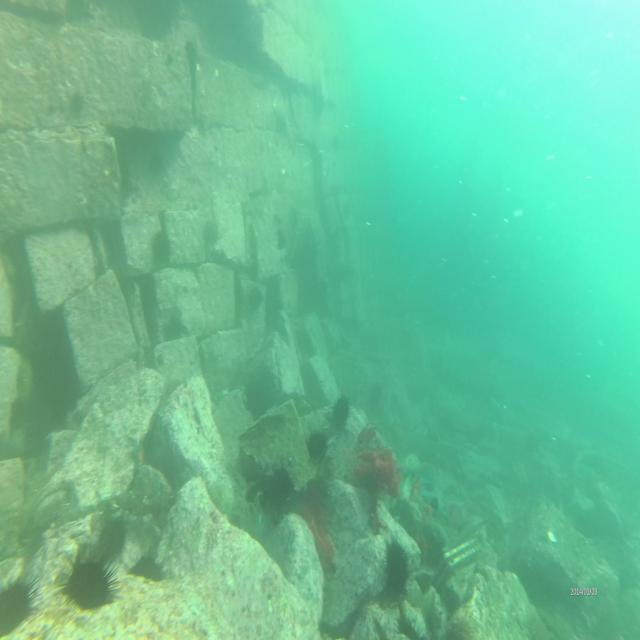echinus: (64, 561, 119, 611), (0, 581, 36, 633), (385, 540, 408, 597), (132, 553, 163, 595), (152, 229, 171, 263), (307, 430, 327, 460), (333, 396, 351, 427)
starfish: (407, 470, 433, 503), (424, 491, 447, 514)
